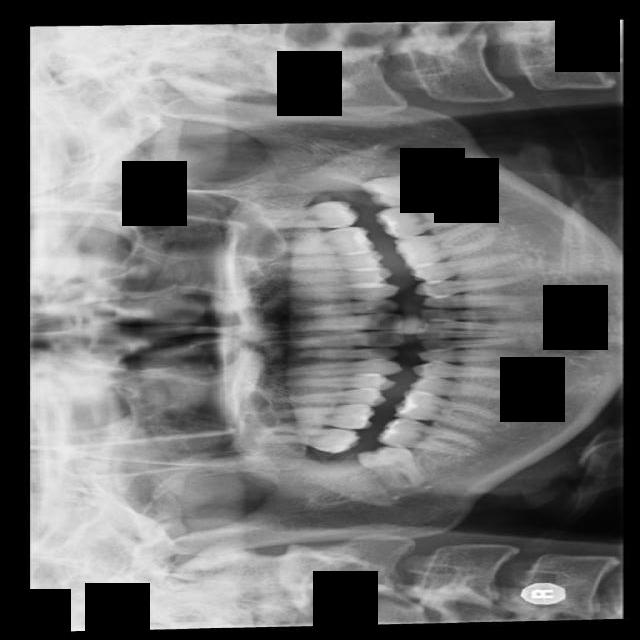52: (392, 228, 445, 272), (374, 202, 428, 241), (391, 386, 445, 424), (374, 415, 429, 449), (326, 224, 379, 257), (315, 425, 363, 454), (331, 402, 378, 430), (355, 299, 399, 313)
BioHorizons Implant: (223, 199, 361, 229)
Biomet 3i Implant: (359, 161, 455, 214)
Blue Sky Bio Implant: (373, 190, 483, 243)
Caries: (227, 421, 362, 454)
Implant: (374, 412, 483, 459)
Keystone Dental Implant: (355, 426, 435, 502)
